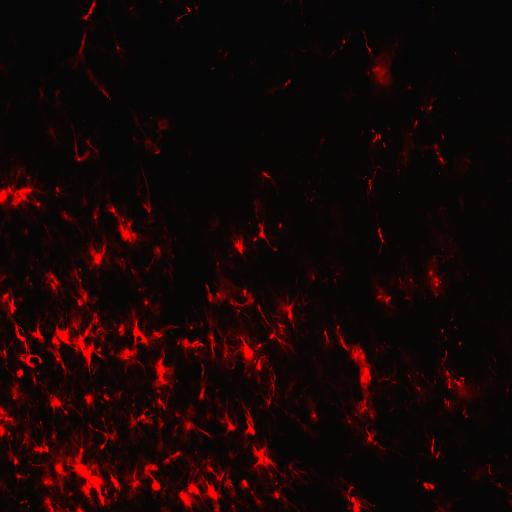microglia: (251, 444, 277, 470), (132, 319, 149, 346), (12, 186, 32, 207), (240, 333, 254, 362), (2, 289, 18, 314), (80, 0, 98, 21), (54, 325, 71, 346), (356, 368, 376, 385), (30, 320, 44, 344), (53, 351, 67, 375), (223, 411, 237, 435), (204, 480, 219, 502), (89, 249, 106, 268), (0, 407, 19, 424), (130, 467, 142, 492), (84, 345, 95, 372), (350, 348, 368, 364), (207, 332, 218, 357), (283, 303, 296, 324), (157, 354, 166, 384), (109, 471, 121, 493), (185, 480, 201, 496), (270, 332, 286, 348), (120, 347, 138, 361), (144, 459, 158, 477), (178, 490, 192, 508), (118, 223, 131, 242), (129, 221, 139, 244), (48, 394, 63, 409), (147, 478, 162, 493), (32, 444, 50, 456), (371, 66, 386, 80), (55, 461, 67, 478), (244, 421, 256, 438), (49, 270, 60, 287), (9, 452, 20, 469), (152, 326, 164, 341), (44, 497, 55, 512), (97, 437, 109, 450), (246, 411, 256, 425), (102, 88, 112, 102), (258, 303, 266, 320), (378, 226, 385, 245), (51, 336, 61, 349), (182, 338, 195, 348), (54, 184, 62, 200), (76, 335, 84, 351), (0, 185, 6, 206), (107, 205, 118, 216), (80, 290, 90, 302), (11, 386, 19, 401), (182, 420, 194, 430), (258, 226, 268, 238), (40, 478, 54, 486), (72, 318, 80, 332), (84, 394, 94, 404), (196, 388, 206, 398), (84, 321, 90, 337), (236, 240, 244, 252), (76, 153, 84, 165), (34, 200, 43, 210), (118, 323, 124, 338), (15, 472, 24, 482), (339, 339, 348, 349), (242, 477, 250, 488), (171, 451, 183, 458), (256, 358, 262, 372), (214, 294, 228, 300), (487, 463, 493, 477), (16, 370, 24, 380), (224, 480, 234, 488), (204, 464, 214, 472), (273, 489, 281, 499), (352, 503, 362, 511), (262, 172, 272, 180), (0, 424, 6, 437), (48, 281, 55, 292), (157, 396, 164, 407), (323, 330, 330, 341), (184, 3, 191, 14), (216, 473, 224, 482), (196, 340, 204, 349), (139, 412, 148, 420), (454, 380, 462, 389), (114, 43, 122, 52), (176, 15, 184, 24), (145, 204, 152, 214), (213, 504, 221, 512), (385, 297, 393, 305), (104, 394, 111, 403), (143, 299, 150, 308), (430, 445, 437, 454), (155, 246, 161, 256), (2, 349, 8, 359), (232, 298, 238, 308), (376, 293, 384, 300), (365, 44, 372, 52), (175, 412, 182, 420), (32, 373, 37, 384), (204, 282, 210, 291), (360, 401, 369, 407), (369, 177, 373, 190), (208, 293, 213, 303), (266, 396, 271, 406), (154, 148, 161, 155), (434, 282, 440, 290), (359, 407, 368, 412), (77, 299, 83, 306), (93, 213, 99, 220), (164, 458, 171, 464), (351, 496, 357, 503), (367, 435, 373, 442), (435, 453, 442, 459), (428, 104, 434, 111), (404, 297, 410, 304), (243, 288, 248, 296), (312, 412, 317, 420), (430, 483, 435, 491), (342, 38, 347, 46), (414, 119, 419, 127), (160, 420, 164, 429), (370, 414, 376, 420), (254, 235, 258, 244), (379, 132, 382, 144), (441, 157, 445, 166), (285, 80, 291, 86), (276, 222, 282, 228), (224, 351, 228, 359), (434, 380, 438, 388), (336, 323, 340, 331), (408, 276, 413, 282), (506, 388, 511, 394), (132, 419, 136, 426), (462, 408, 466, 415), (498, 482, 502, 489), (441, 133, 445, 140), (251, 57, 255, 64), (455, 326, 459, 333), (430, 271, 435, 276), (447, 383, 452, 388), (447, 378, 452, 383), (425, 481, 428, 489), (446, 370, 450, 376), (432, 438, 436, 444), (374, 134, 377, 142), (312, 275, 316, 281), (257, 344, 263, 348), (211, 65, 215, 71), (450, 316, 454, 322), (434, 294, 440, 298), (97, 348, 102, 352), (459, 341, 463, 346), (417, 385, 421, 390), (224, 53, 228, 58), (392, 380, 397, 384), (445, 350, 448, 356), (257, 500, 261, 504), (440, 329, 444, 333), (465, 414, 469, 418), (374, 441, 378, 445), (237, 309, 241, 313), (188, 153, 192, 157), (460, 377, 465, 380), (376, 348, 379, 353), (448, 400, 450, 407), (435, 144, 438, 148), (436, 152, 440, 155), (462, 470, 466, 473), (421, 374, 424, 378), (190, 326, 195, 328), (232, 504, 234, 508), (445, 401, 447, 405), (220, 50, 222, 54), (462, 380, 464, 383), (417, 372, 419, 374), (398, 348, 400, 350)
